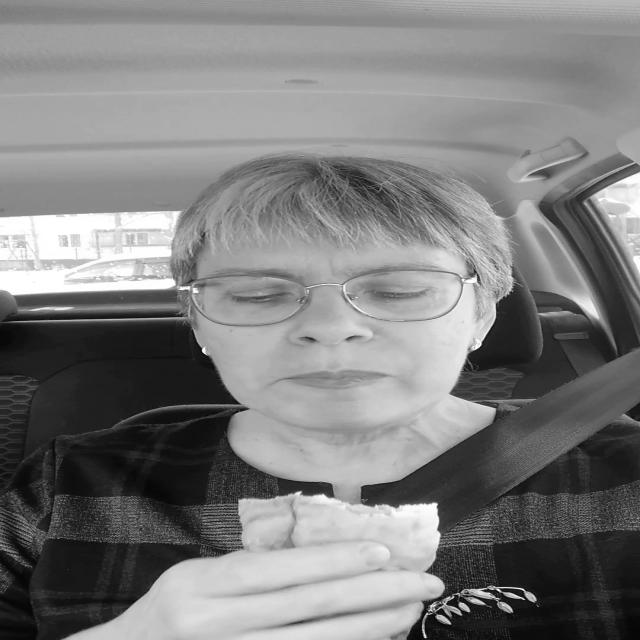Eating: (224, 480, 459, 600)
Seatbelt: (360, 352, 640, 536)
